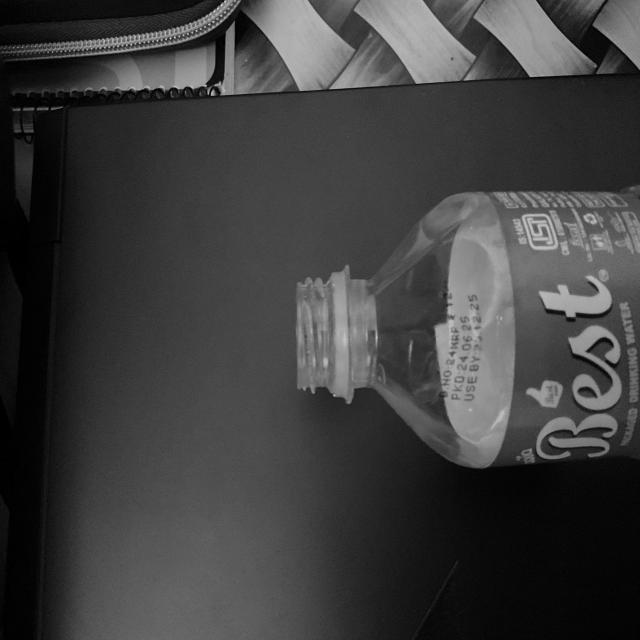open-cap: (292, 267, 354, 403)
